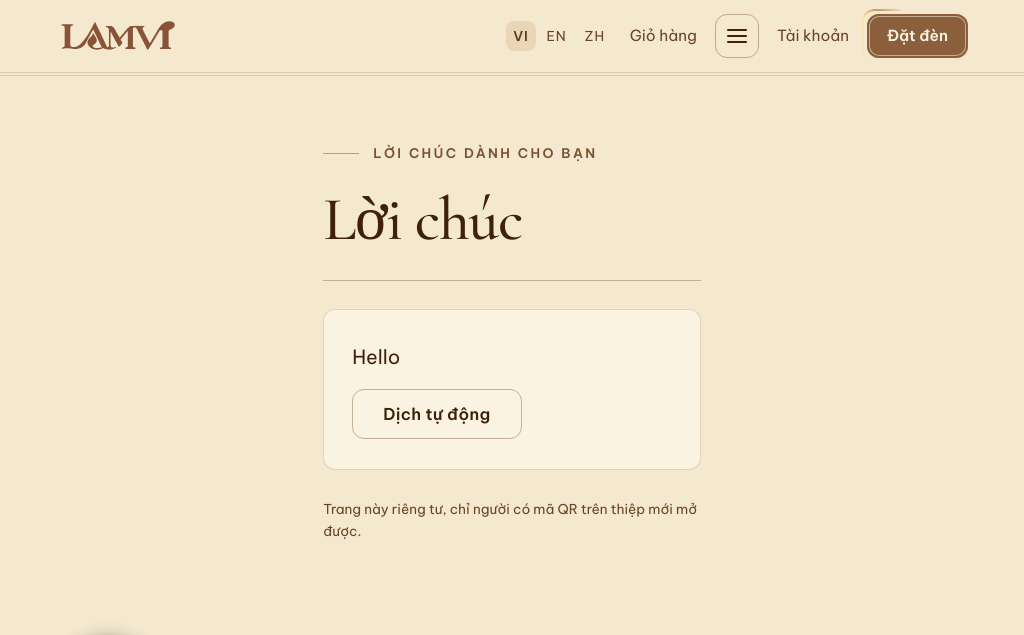
Test: Trang QR lời chúc › dịch lỗi → báo lỗi, bản gốc vẫn xem được
Step 1. Click the button "Dịch tự động" → (437, 414), box [352,389,522,439]
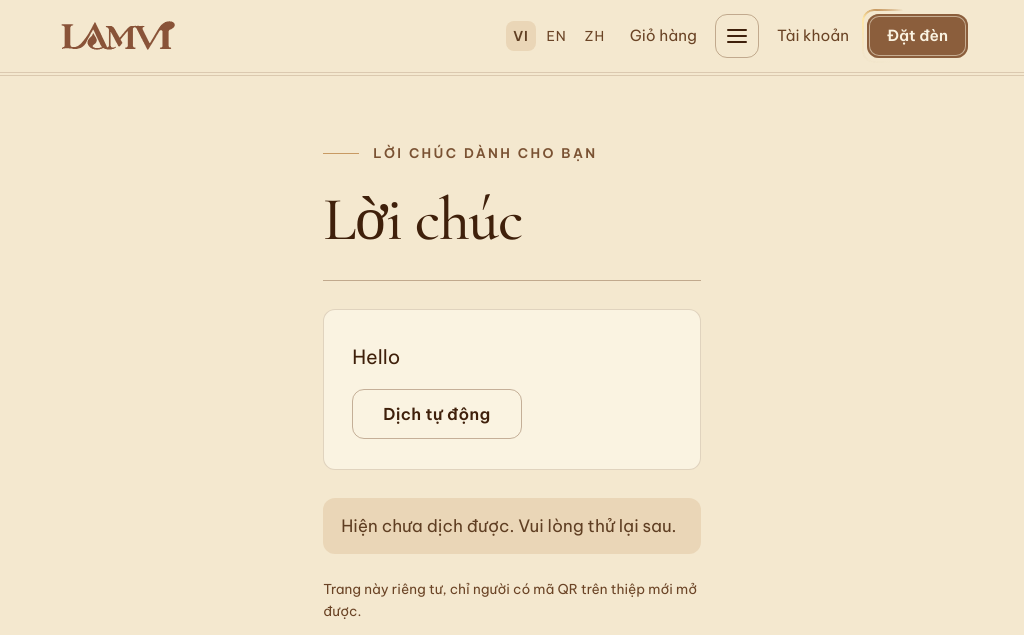
expect the text "Hello" is shown: met, box [352,344,400,368]
expect the message shows "chưa dịch được": met, box [341,515,676,537]
